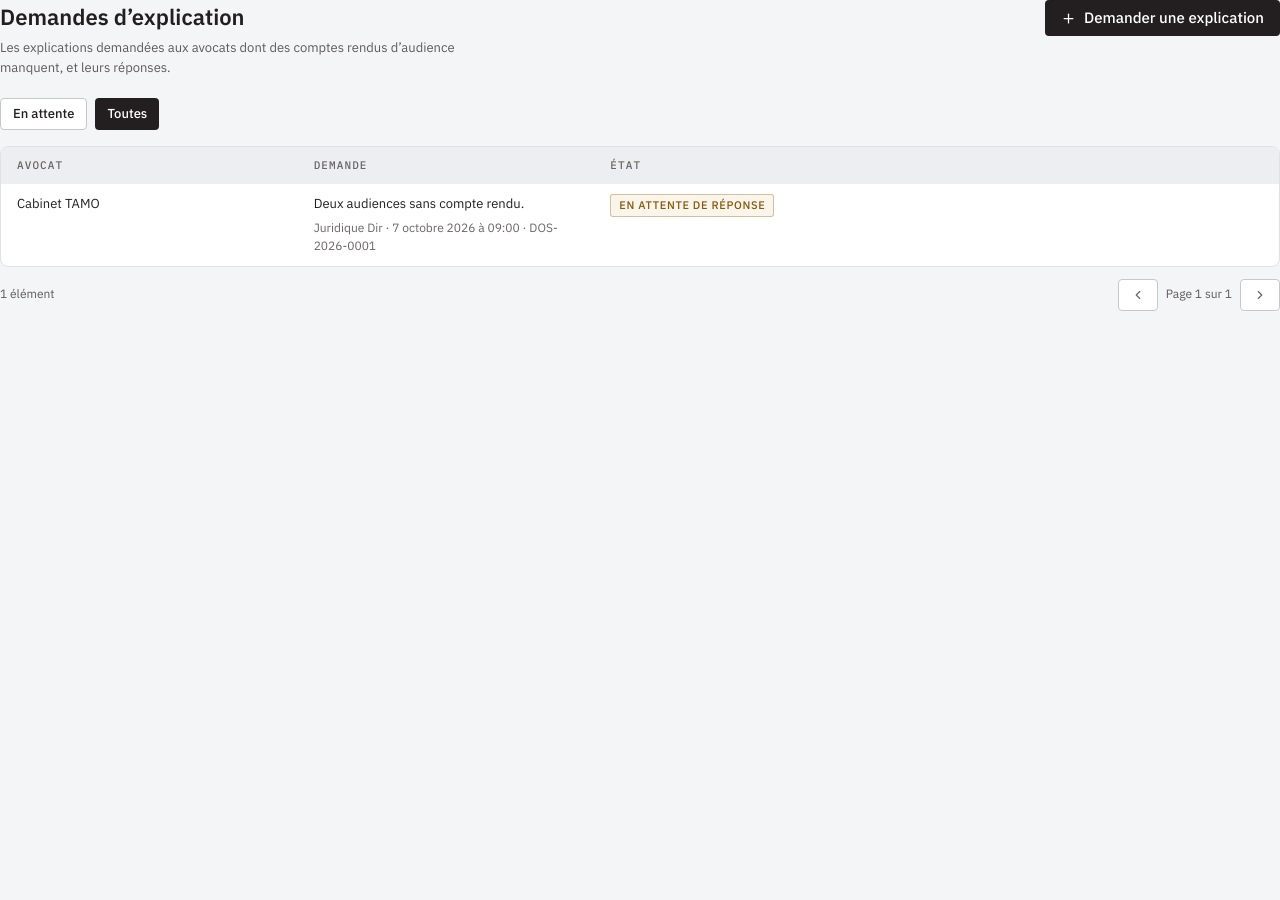
Test case: écran des demandes d'explication › refuse d'envoyer une demande sans avocat désigné
Step 1. Click the button "Demander une explication" → (1162, 18), box [1045,0,1279,36]
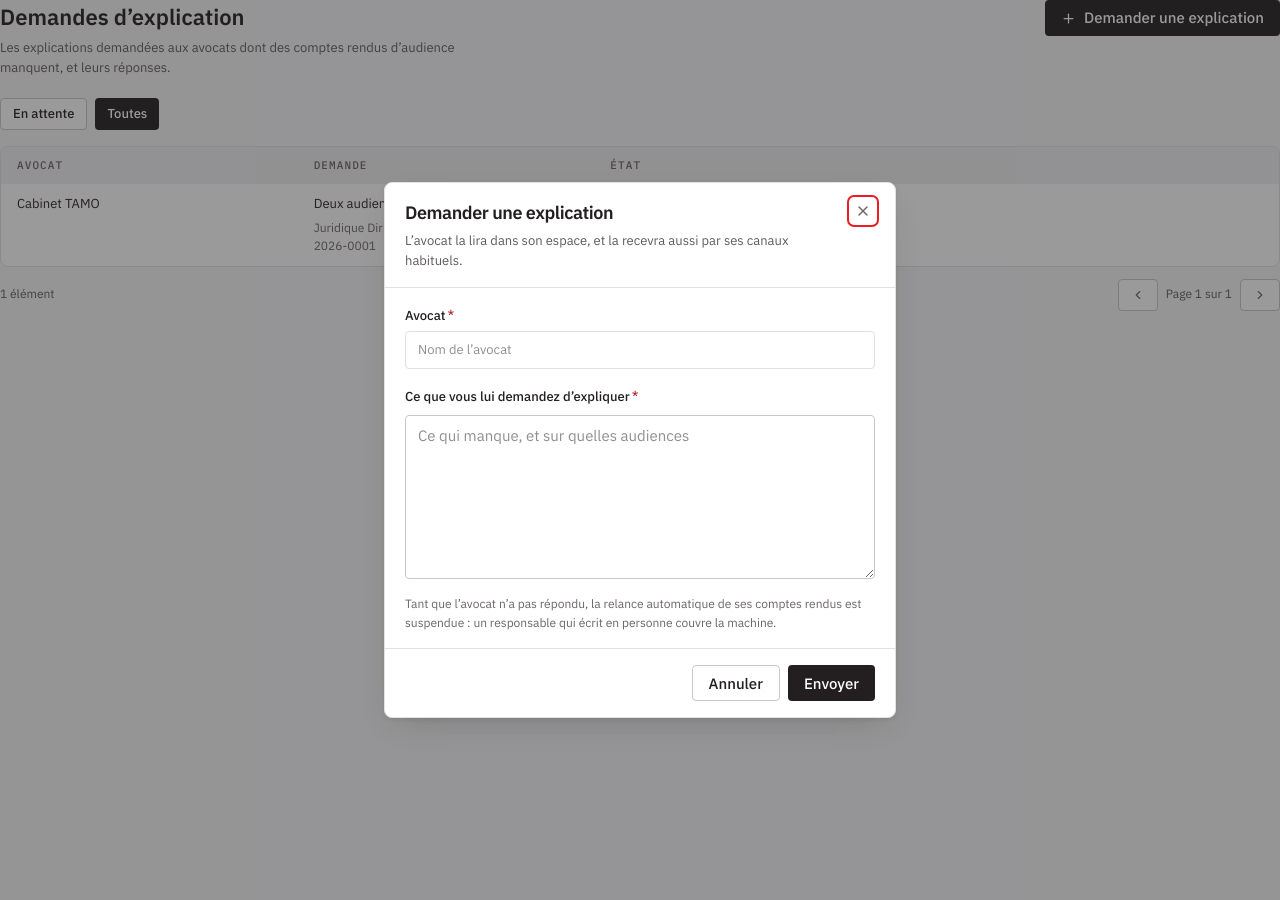
Step 2. Type "Expliquez-vous." into the text box labelled "Ce que vous lui demandez d’expliquer" → (640, 497), box [405,415,875,579]
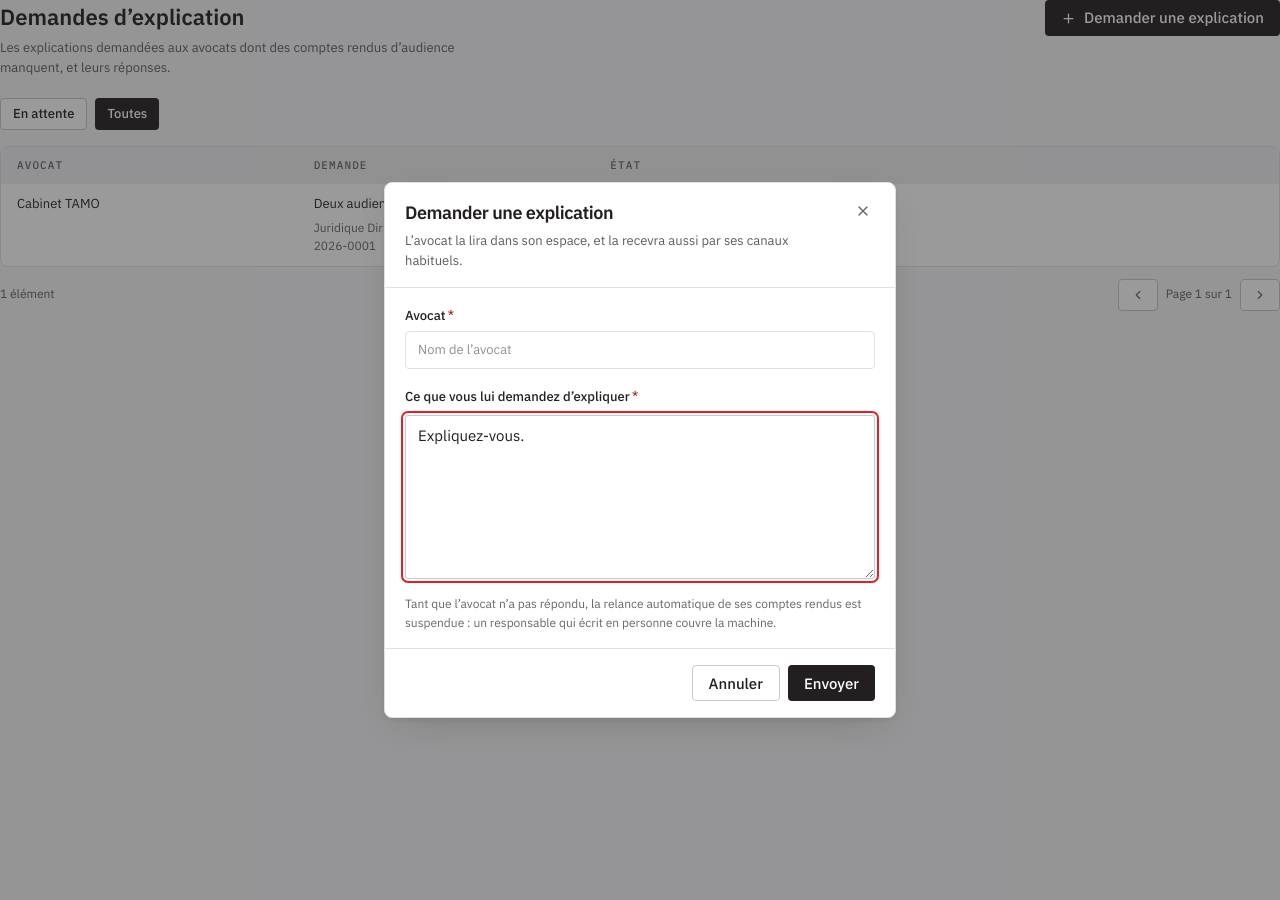
Step 3. Click the button "Envoyer" → (832, 683), box [788,665,875,701]
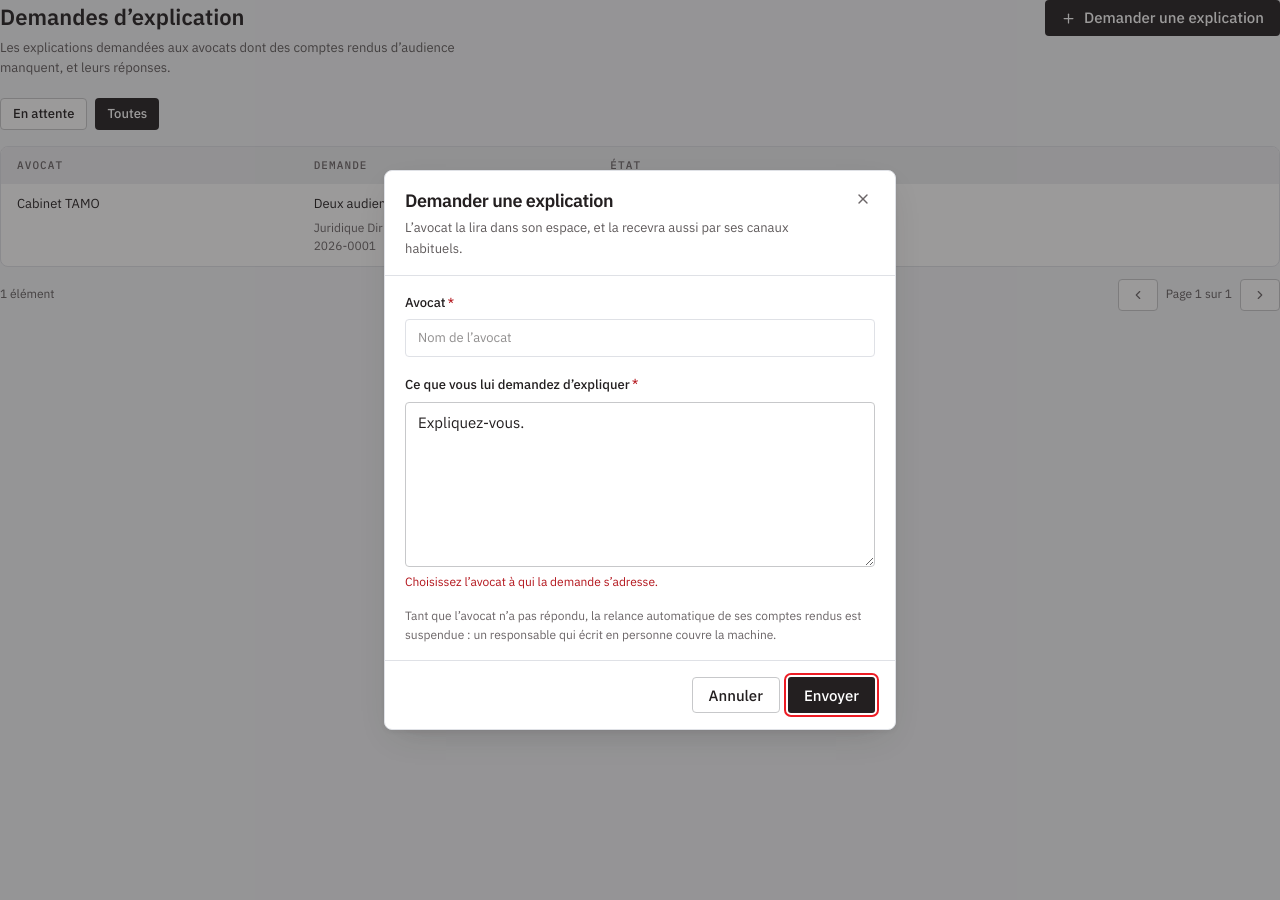
Expected: the text "Choisissez l’avocat à qui la demande s’adresse." is shown, [405,574,658,589]
